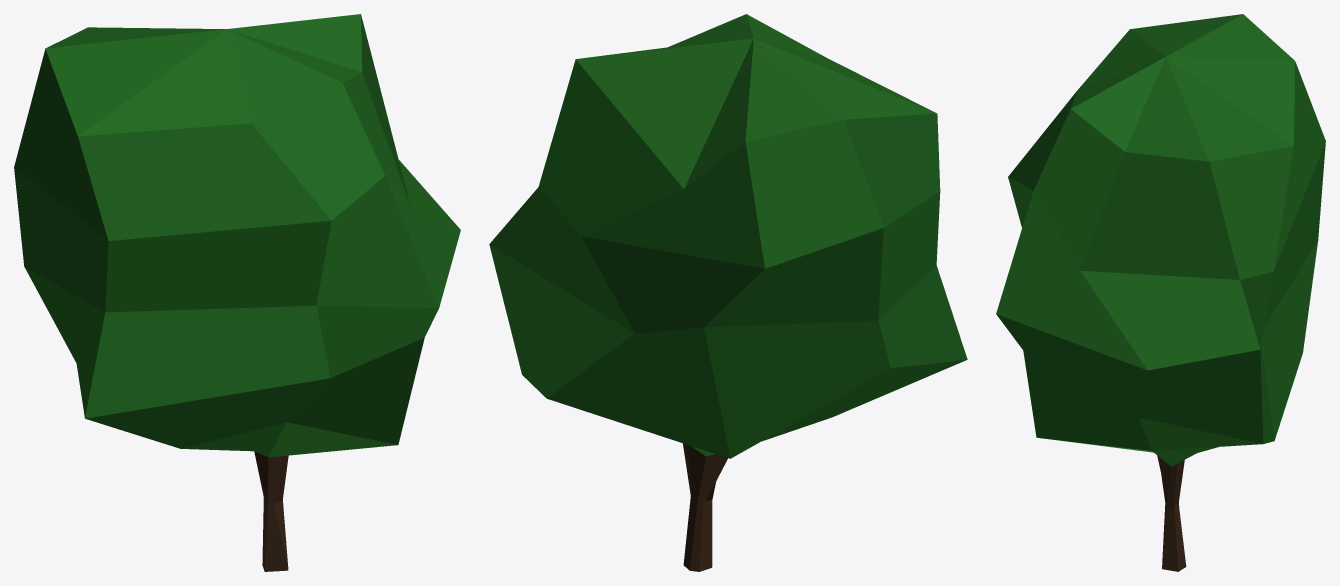
Rendered from tree_C.fbx.
The picture shows the model from 3 angles, left to right: view 1: azimuth 30°, elevation 25°; view 2: azimuth 150°, elevation 25°; view 3: azimuth 270°, elevation 25°; orthographic projection. The views are drawn at different scales.
Parts seen in each view (by area): view 1: Tree_PROXY; view 2: Tree_PROXY; view 3: Tree_PROXY.
Boxes of the visible parts, x1=… form: Tree_PROXY: x1=14, y1=14, x2=460, y2=571; Tree_PROXY: x1=489, y1=14, x2=967, y2=571; Tree_PROXY: x1=996, y1=14, x2=1325, y2=571.
Bounding box in the file's own units: 731 × 957 × 587.
